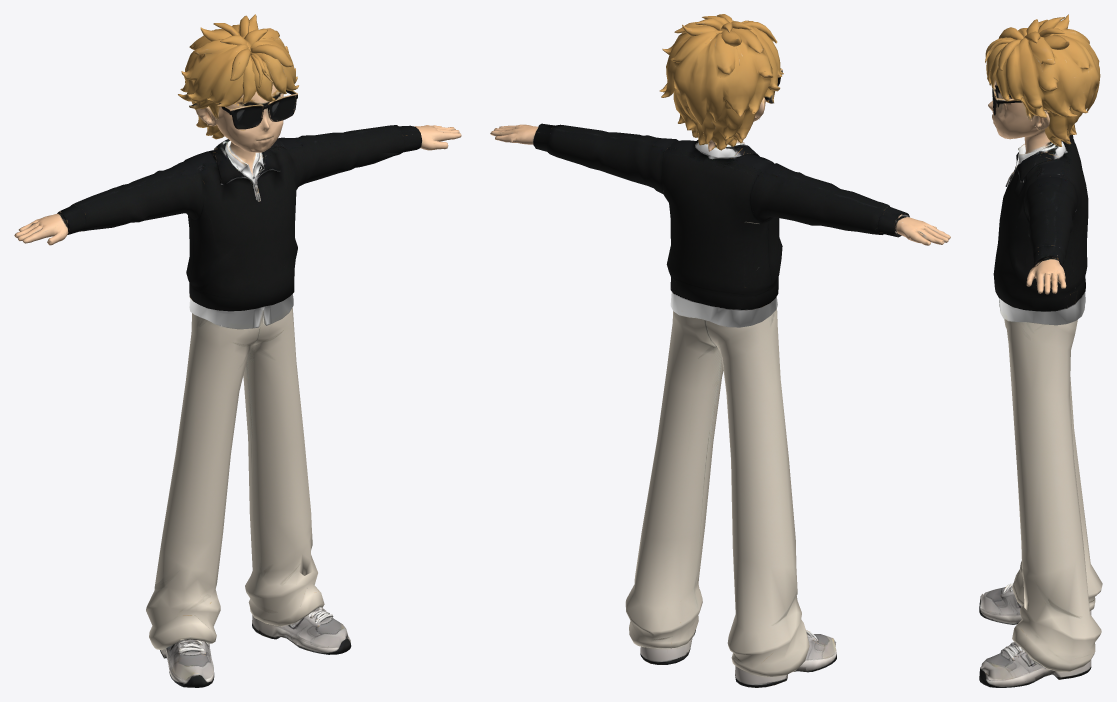
File: Romchik.glb
3 views of the same model, side by side, from view 1: azimuth 30°, elevation 25°; view 2: azimuth 150°, elevation 25°; view 3: azimuth 270°, elevation 25° (orthographic). The views are drawn at different scales.
Size of the model in its own units: 0.7065 by 0.9507 by 0.1709.
Materials: 1 (1 with a texture image).
